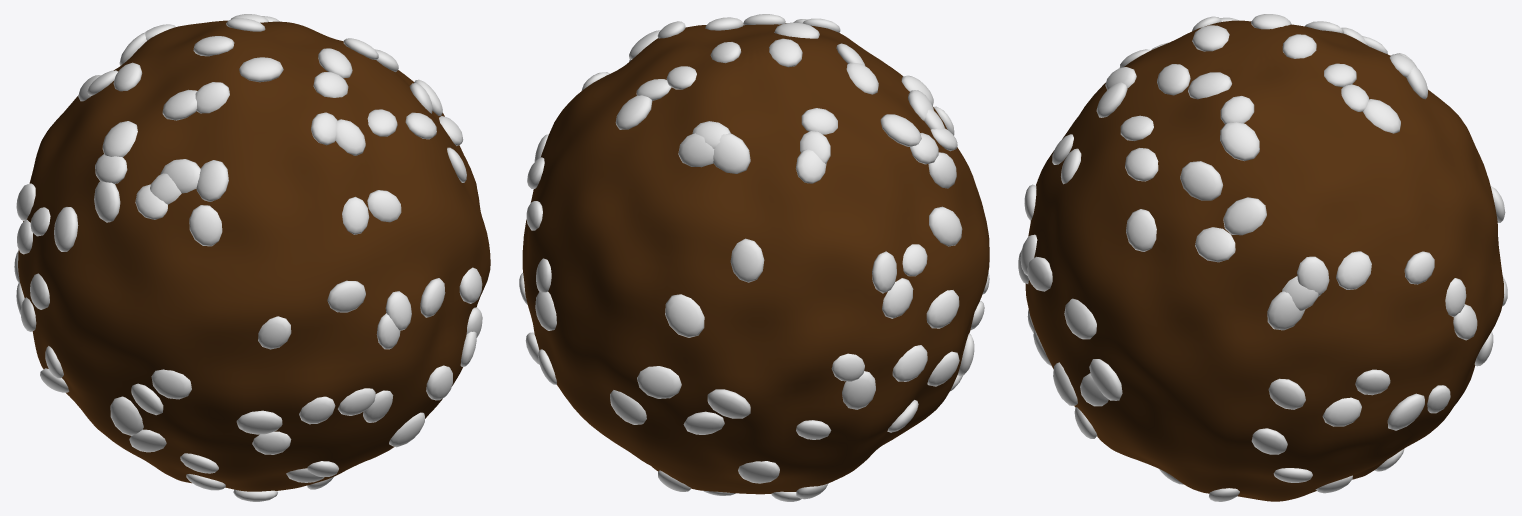
File: candy crush chocolate.fbx
3 views of the same model, side by side, from view 1: azimuth 30°, elevation 25°; view 2: azimuth 150°, elevation 25°; view 3: azimuth 270°, elevation 25° (orthographic). The views are drawn at different scales.
Parts seen in each view (by area): view 1: Combo Chocolate, Combo Chocolate|Sphere.002|Dupli|53, Combo Chocolate|Sphere.002|Dupli|56, Combo Chocolate|Sphere.002|Dupli|42, Combo Chocolate|Sphere.002|Dupli|66, Combo Chocolate|Sphere.002|Dupli|65, Combo Chocolate|Sphere.002|Dupli|54, Combo Chocolate|Sphere.002|Dupli|62, Combo Chocolate|Sphere.002|Dupli|68, Combo Chocolate|Sphere.002|Dupli|50, Combo Chocolate|Sphere.002|Dupli|71, Combo Chocolate|Sphere.002|Dupli|51 (+31 smaller); view 2: Combo Chocolate, Combo Chocolate|Sphere.002|Dupli|92, Combo Chocolate|Sphere.002|Dupli|91, Combo Chocolate|Sphere.002|Dupli|93, Combo Chocolate|Sphere.002|Dupli|87, Combo Chocolate|Sphere.002|Dupli|71, Combo Chocolate|Sphere.002|Dupli|89, Combo Chocolate|Sphere.002|Dupli|83, Combo Chocolate|Sphere.002|Dupli|94, Combo Chocolate|Sphere.002|Dupli|69, Combo Chocolate|Sphere.002|Dupli|66, Combo Chocolate|Sphere.002|Dupli|77 (+22 smaller); view 3: Combo Chocolate, Combo Chocolate|Sphere.002|Dupli|23, Combo Chocolate|Sphere.002|Dupli|18, Combo Chocolate|Sphere.002|Dupli|20, Combo Chocolate|Sphere.002|Dupli|22, Combo Chocolate|Sphere.002|Dupli|25, Combo Chocolate|Sphere.002|Dupli|11, Combo Chocolate|Sphere.002|Dupli|12, Combo Chocolate|Sphere.002|Dupli|27, Combo Chocolate|Sphere.002|Dupli|14, Combo Chocolate|Sphere.002|Dupli|26, Combo Chocolate|Sphere.002|Dupli|29 (+22 smaller).
Part boxes in pixels (x1=…): Combo Chocolate: x1=18, y1=20, x2=490, y2=491; Combo Chocolate|Sphere.002|Dupli|53: x1=189, y1=205, x2=222, y2=246; Combo Chocolate|Sphere.002|Dupli|56: x1=196, y1=160, x2=228, y2=201; Combo Chocolate|Sphere.002|Dupli|42: x1=327, y1=280, x2=365, y2=312; Combo Chocolate|Sphere.002|Dupli|66: x1=102, y1=121, x2=137, y2=157; Combo Chocolate|Sphere.002|Dupli|65: x1=110, y1=396, x2=143, y2=435; Combo Chocolate|Sphere.002|Dupli|54: x1=151, y1=369, x2=191, y2=399; Combo Chocolate|Sphere.002|Dupli|62: x1=160, y1=159, x2=200, y2=193; Combo Chocolate|Sphere.002|Dupli|68: x1=94, y1=181, x2=120, y2=222; Combo Chocolate|Sphere.002|Dupli|50: x1=239, y1=57, x2=283, y2=82; Combo Chocolate|Sphere.002|Dupli|71: x1=54, y1=207, x2=78, y2=251; Combo Chocolate|Sphere.002|Dupli|51: x1=236, y1=410, x2=282, y2=434; Combo Chocolate: x1=522, y1=23, x2=989, y2=494; Combo Chocolate|Sphere.002|Dupli|92: x1=665, y1=294, x2=704, y2=337; Combo Chocolate|Sphere.002|Dupli|91: x1=713, y1=133, x2=750, y2=173; Combo Chocolate|Sphere.002|Dupli|93: x1=637, y1=366, x2=681, y2=398; Combo Chocolate|Sphere.002|Dupli|87: x1=730, y1=238, x2=764, y2=282; Combo Chocolate|Sphere.002|Dupli|71: x1=929, y1=206, x2=962, y2=246; Combo Chocolate|Sphere.002|Dupli|89: x1=707, y1=389, x2=750, y2=418; Combo Chocolate|Sphere.002|Dupli|83: x1=842, y1=371, x2=875, y2=409; Combo Chocolate|Sphere.002|Dupli|94: x1=678, y1=133, x2=714, y2=167; Combo Chocolate|Sphere.002|Dupli|69: x1=926, y1=290, x2=959, y2=328; Combo Chocolate|Sphere.002|Dupli|66: x1=880, y1=114, x2=921, y2=146; Combo Chocolate|Sphere.002|Dupli|77: x1=882, y1=278, x2=913, y2=318; Combo Chocolate: x1=1025, y1=20, x2=1503, y2=501; Combo Chocolate|Sphere.002|Dupli|23: x1=1180, y1=161, x2=1222, y2=200; Combo Chocolate|Sphere.002|Dupli|18: x1=1223, y1=197, x2=1266, y2=235; Combo Chocolate|Sphere.002|Dupli|20: x1=1220, y1=122, x2=1259, y2=160; Combo Chocolate|Sphere.002|Dupli|22: x1=1195, y1=227, x2=1235, y2=262; Combo Chocolate|Sphere.002|Dupli|25: x1=1126, y1=209, x2=1156, y2=251; Combo Chocolate|Sphere.002|Dupli|11: x1=1336, y1=251, x2=1371, y2=289; Combo Chocolate|Sphere.002|Dupli|12: x1=1267, y1=291, x2=1304, y2=330; Combo Chocolate|Sphere.002|Dupli|27: x1=1064, y1=298, x2=1096, y2=339; Combo Chocolate|Sphere.002|Dupli|14: x1=1297, y1=256, x2=1329, y2=295; Combo Chocolate|Sphere.002|Dupli|26: x1=1125, y1=148, x2=1158, y2=181; Combo Chocolate|Sphere.002|Dupli|29: x1=1089, y1=359, x2=1122, y2=400.
Size of the model in its own units: 71.98 by 73.58 by 72.57.
